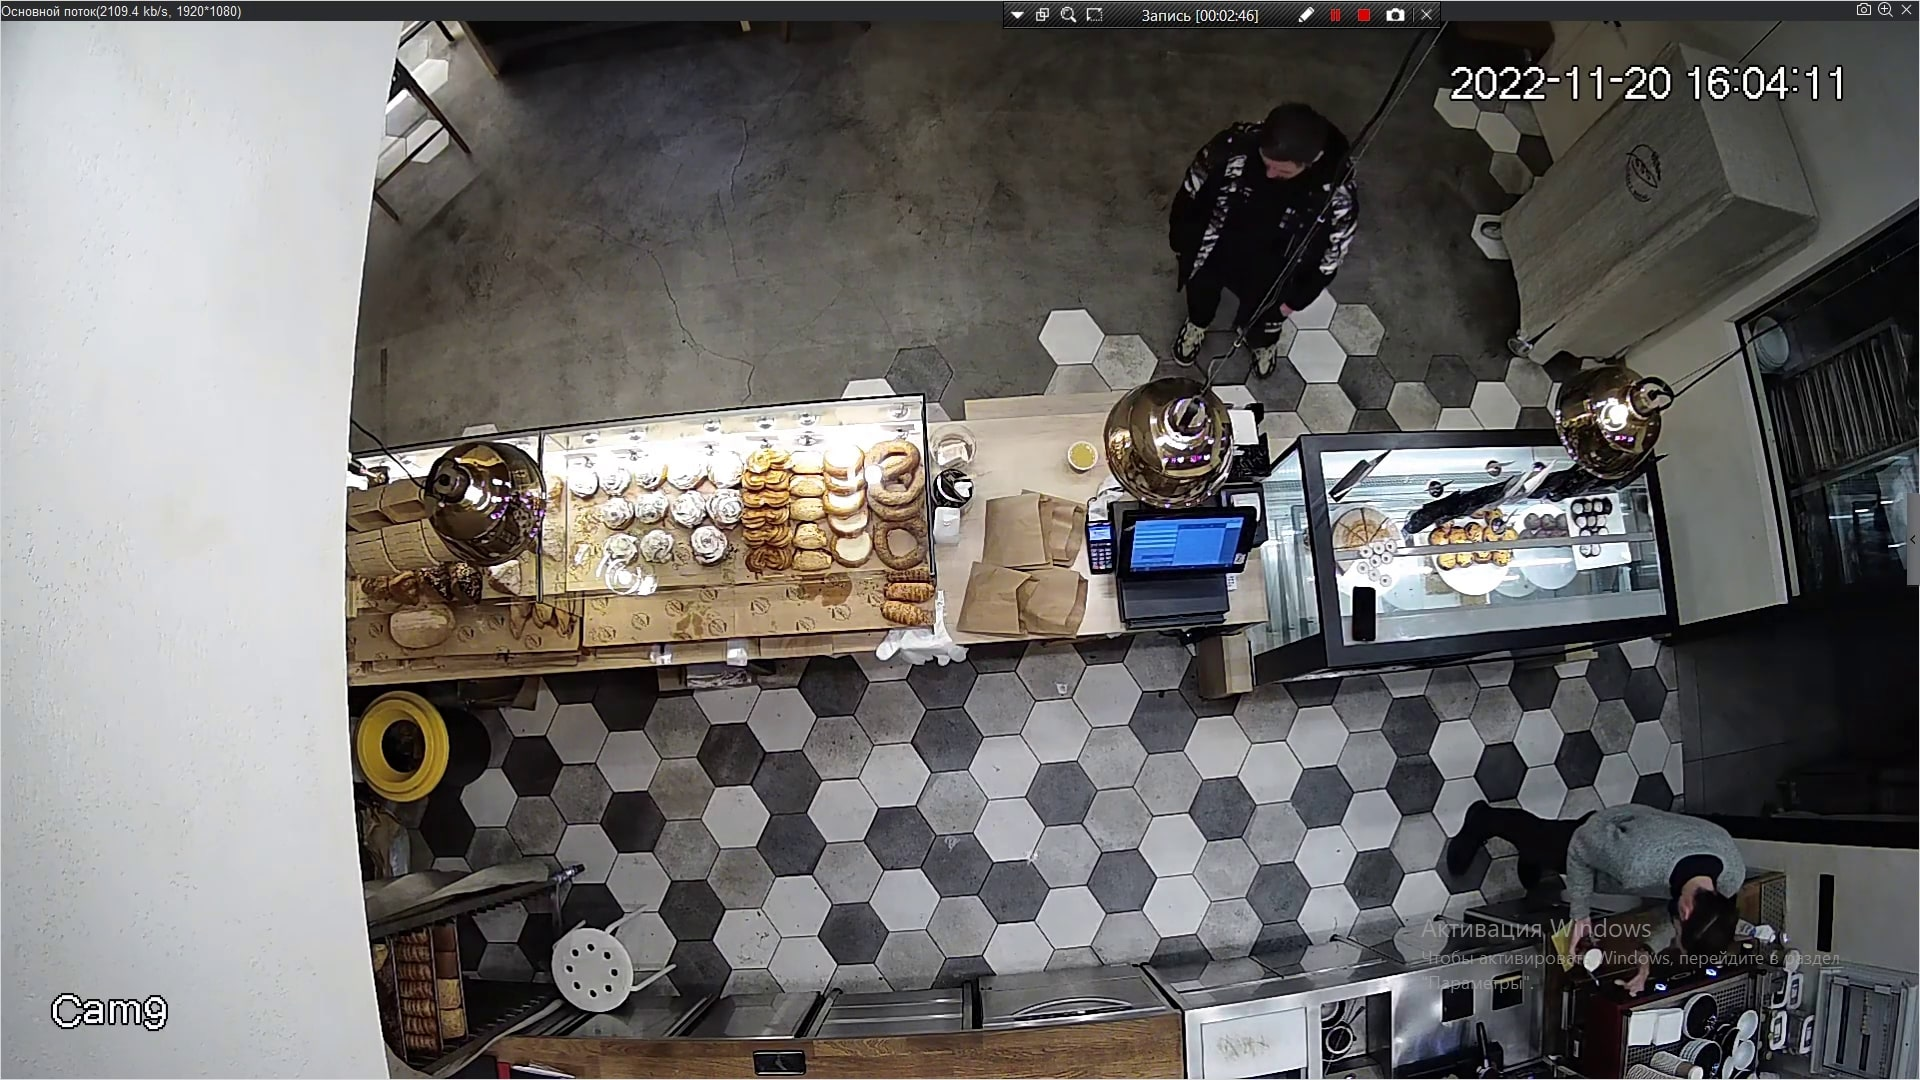barcounter: (359, 421, 1689, 675)
coffee: (1065, 435, 1100, 477)
pack: (977, 493, 1055, 566), (957, 559, 1027, 634)
person: (1442, 722, 1748, 939)
